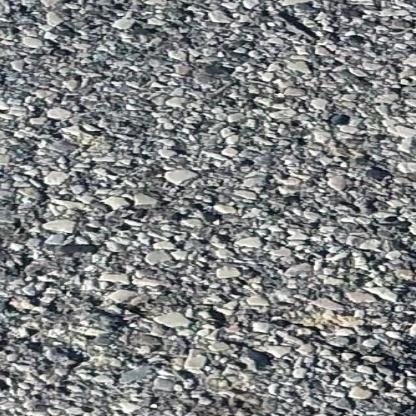Cracks: (279, 320, 416, 377), (396, 385, 416, 416)
